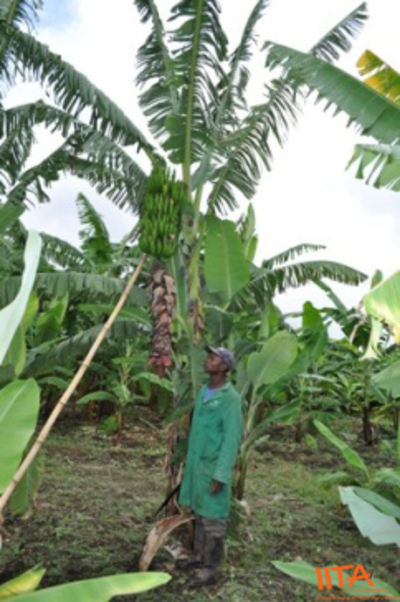bananaHand: (136, 161, 189, 259)
